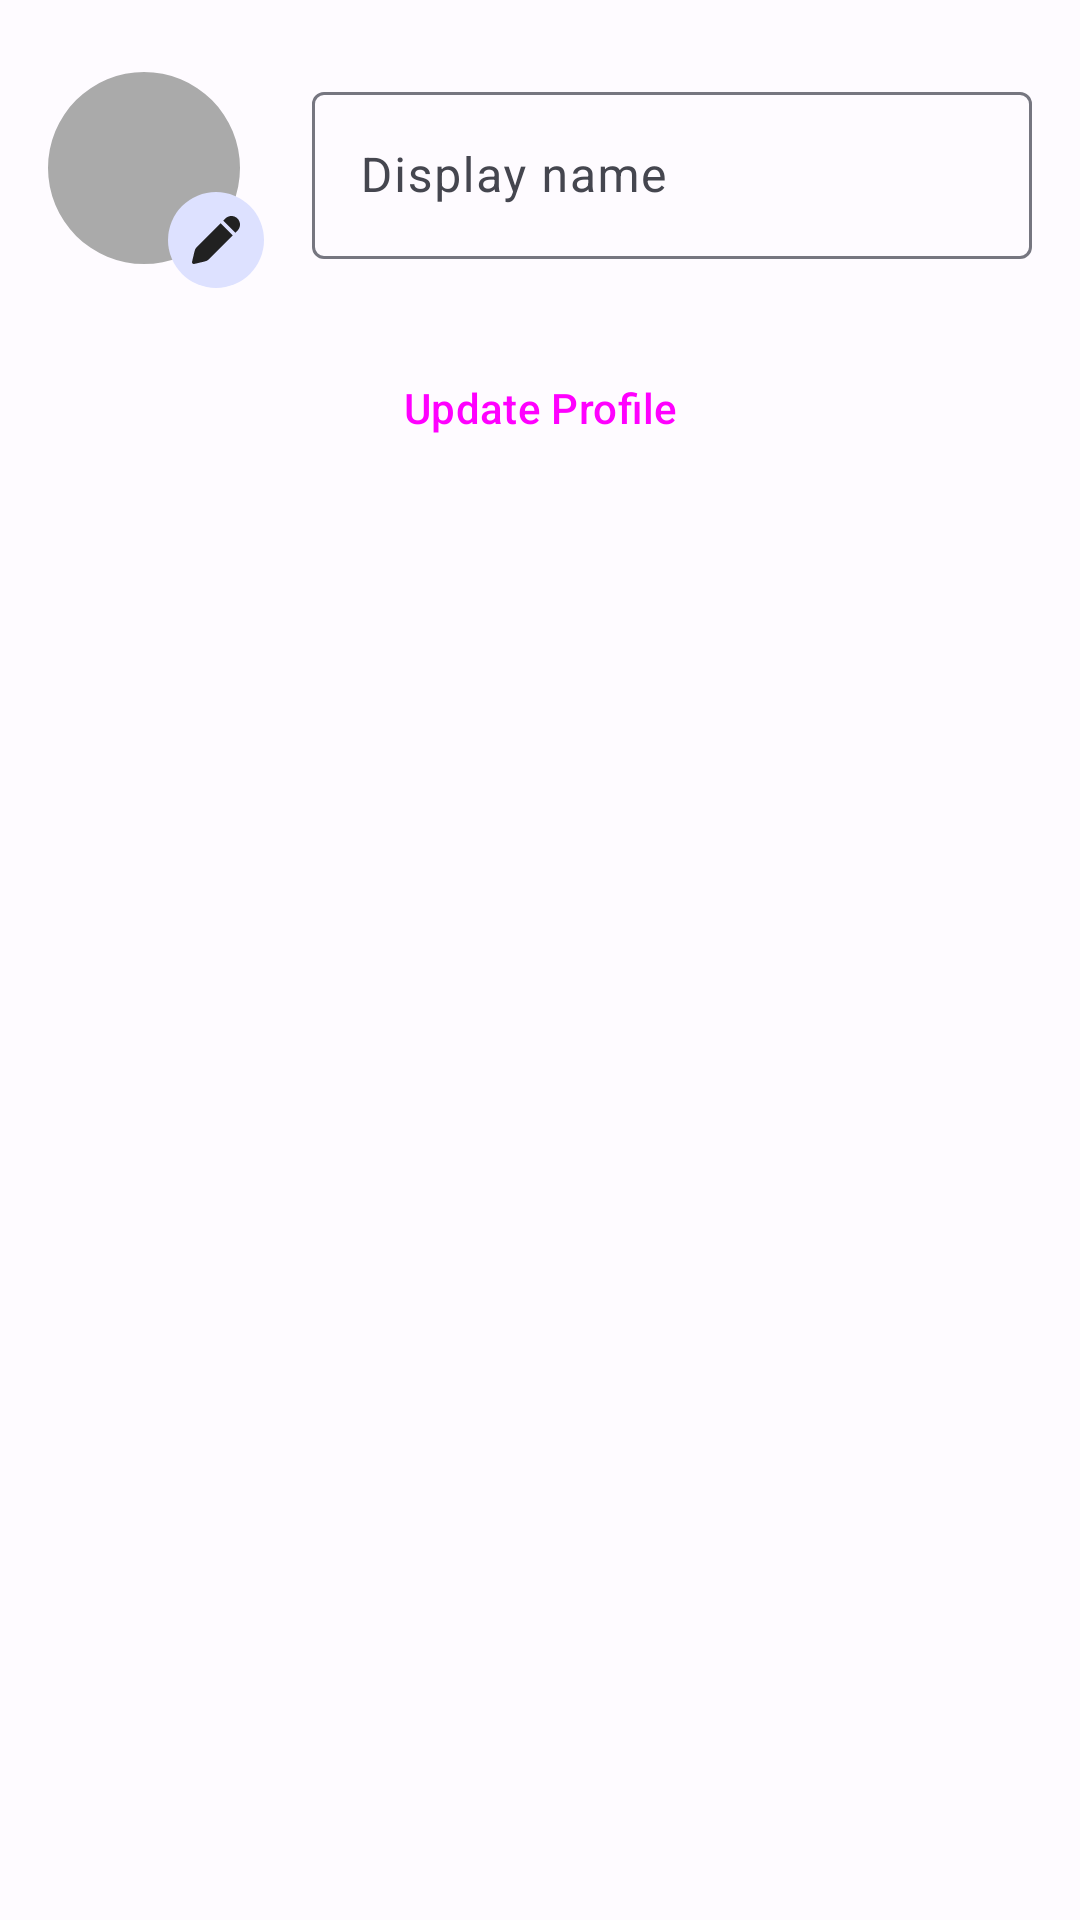

Icons on this 1080px x 1920px Android screen, each with the point to tap as (x=x, y=y):
up edit: (x=216, y=240)
